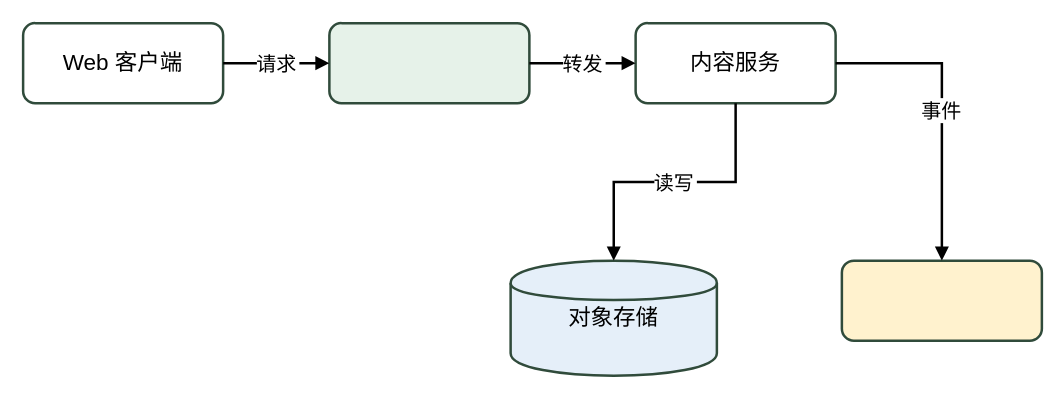
This 1064x398 diagram has some shape labels left out. Each missing label, with the centre of its shape:
"分发缓存" goes at (941,300).
"负载均衡" goes at (429,62).
